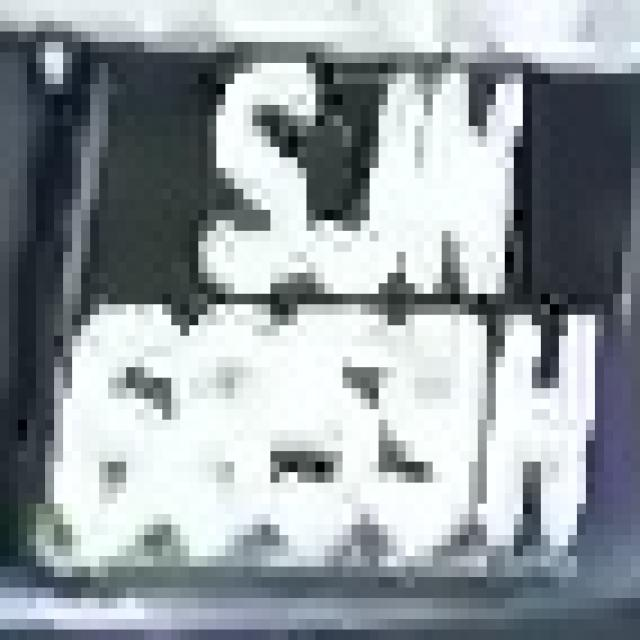5: (262, 272, 378, 588)
6: (27, 252, 171, 587)
8: (136, 294, 270, 566)
9: (378, 272, 478, 588)
H: (469, 325, 613, 598)
J: (288, 42, 432, 304)
N: (388, 63, 532, 315)
S: (172, 32, 306, 284)
